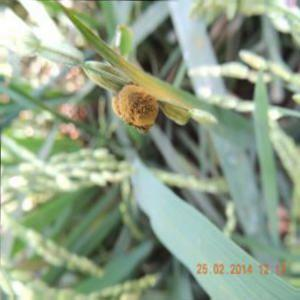Leaf_Scald: (114, 84, 160, 126)
